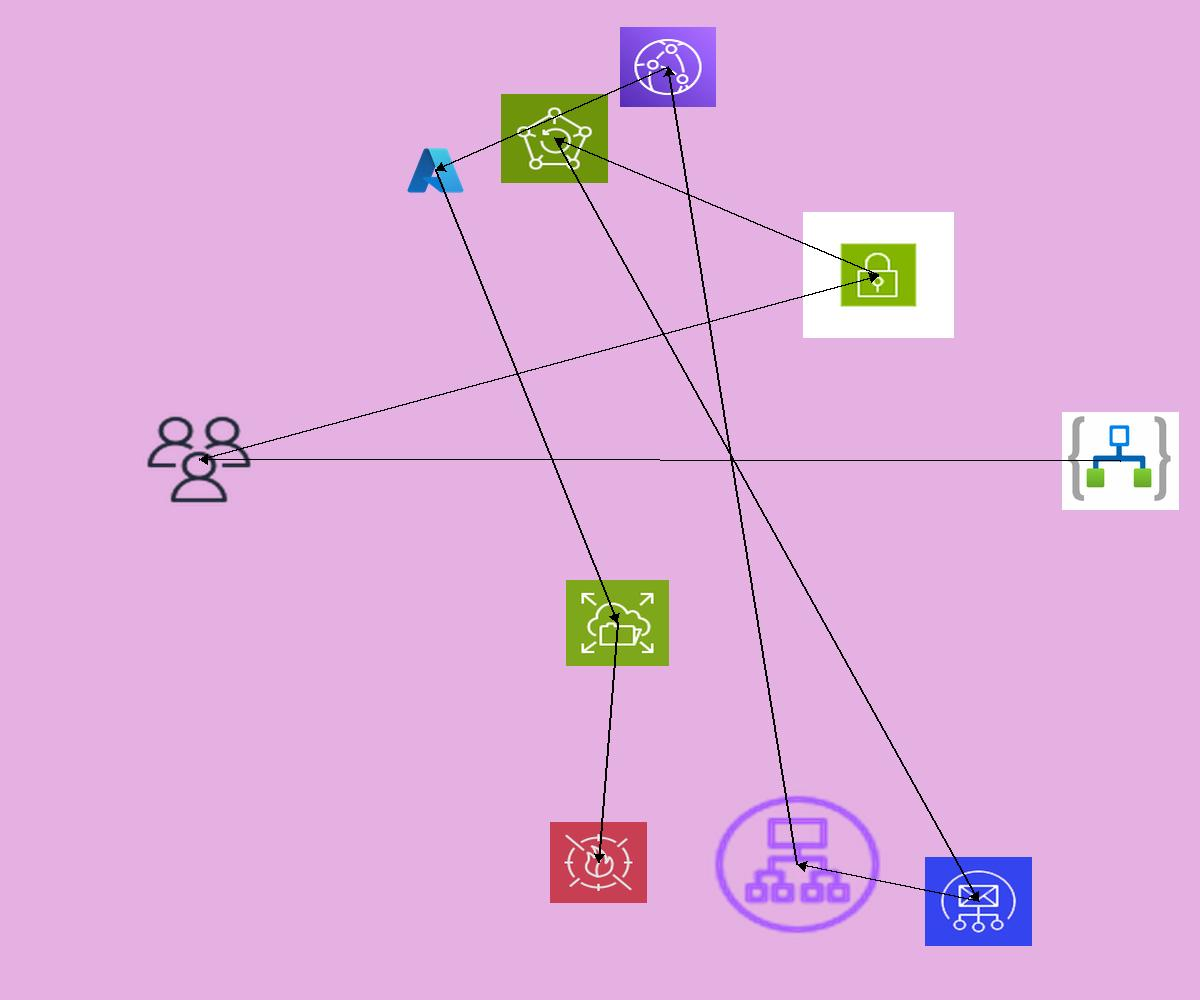AWS-Backup: (501, 94, 608, 183)
AWS-CloudFront: (620, 27, 716, 107)
AWS-EFS: (566, 580, 669, 666)
AWS-Public-subnet: (803, 212, 954, 338)
AWS-Res_Elastic-Load-Balancing_Application-Load-Balancer: (708, 790, 887, 939)
AWS-Res_Users: (143, 413, 255, 506)
AWS-Simple-Email-Service: (925, 857, 1032, 946)
AWS-WAF: (550, 822, 647, 903)
Azure_integration-204-Logic-Apps: (1062, 412, 1179, 510)
Azure_services: (405, 145, 466, 196)
